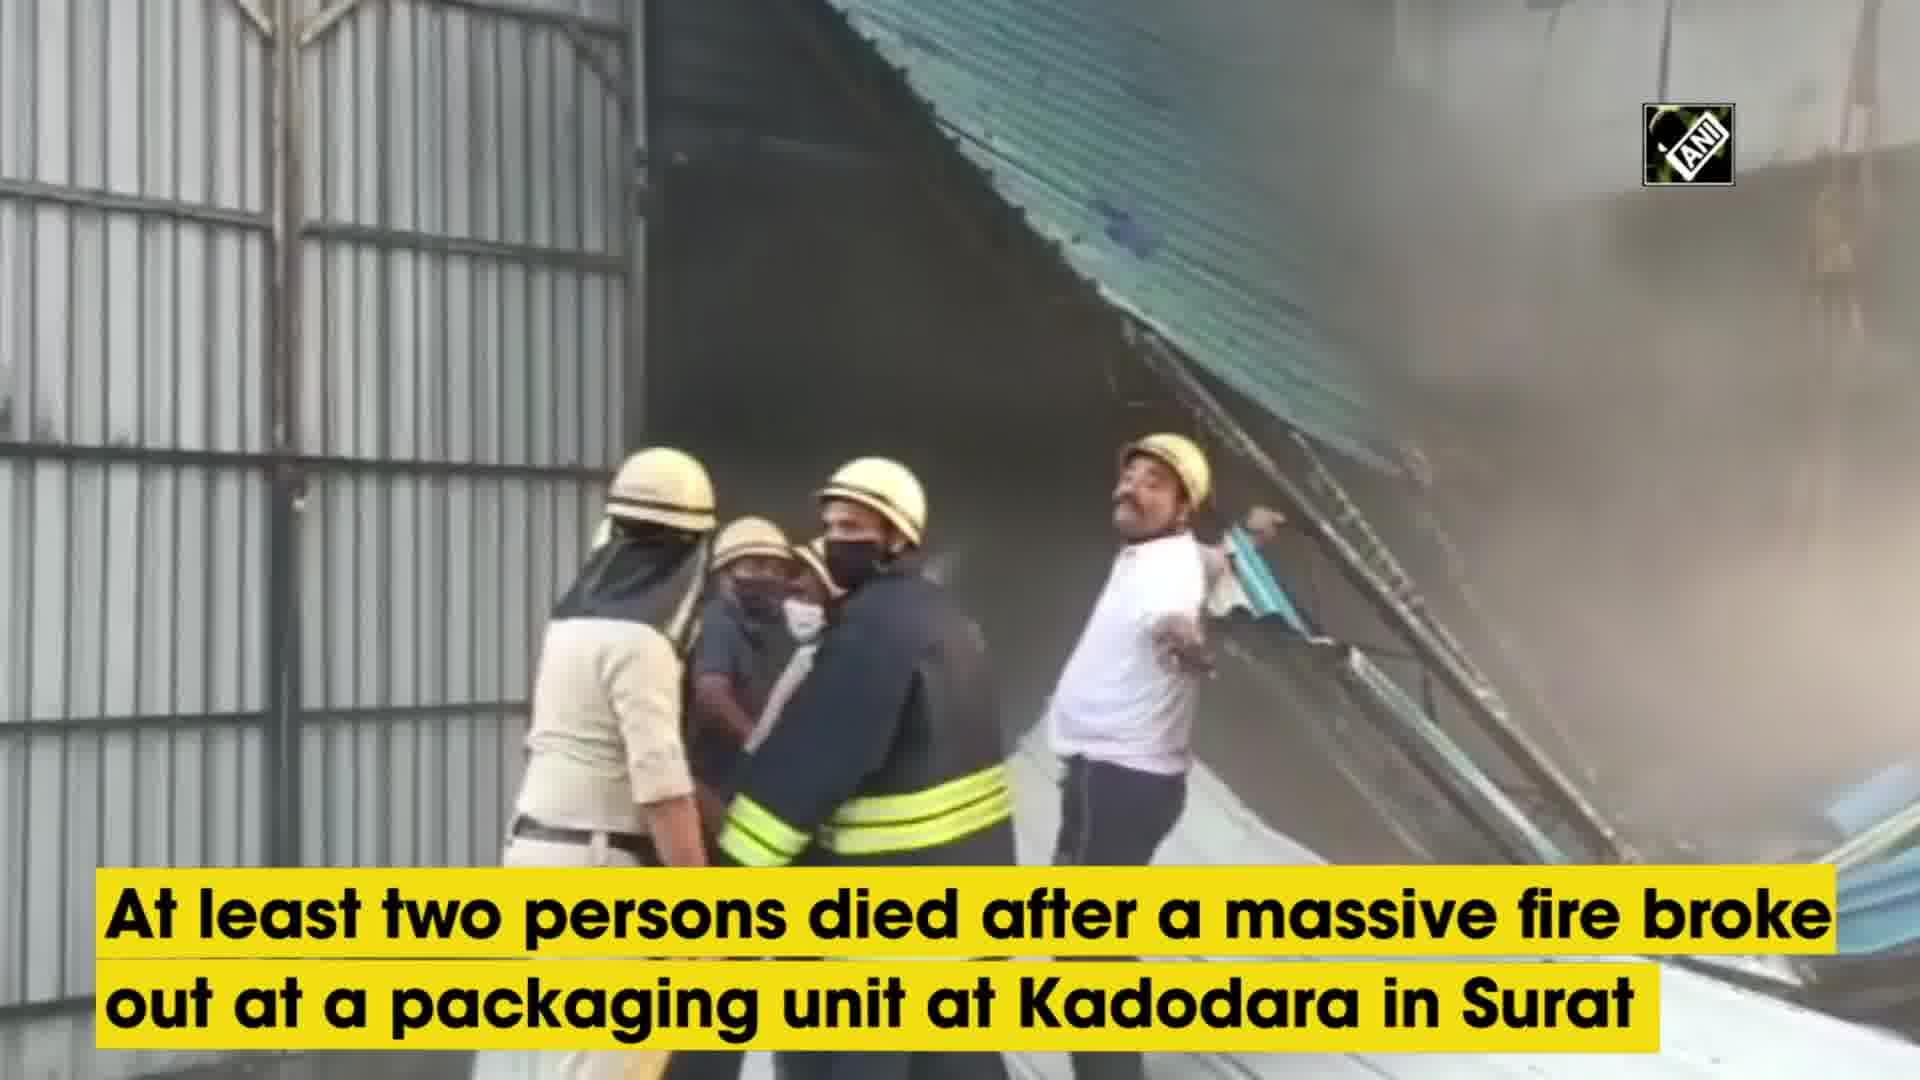smoke: (1462, 316, 1882, 796)
